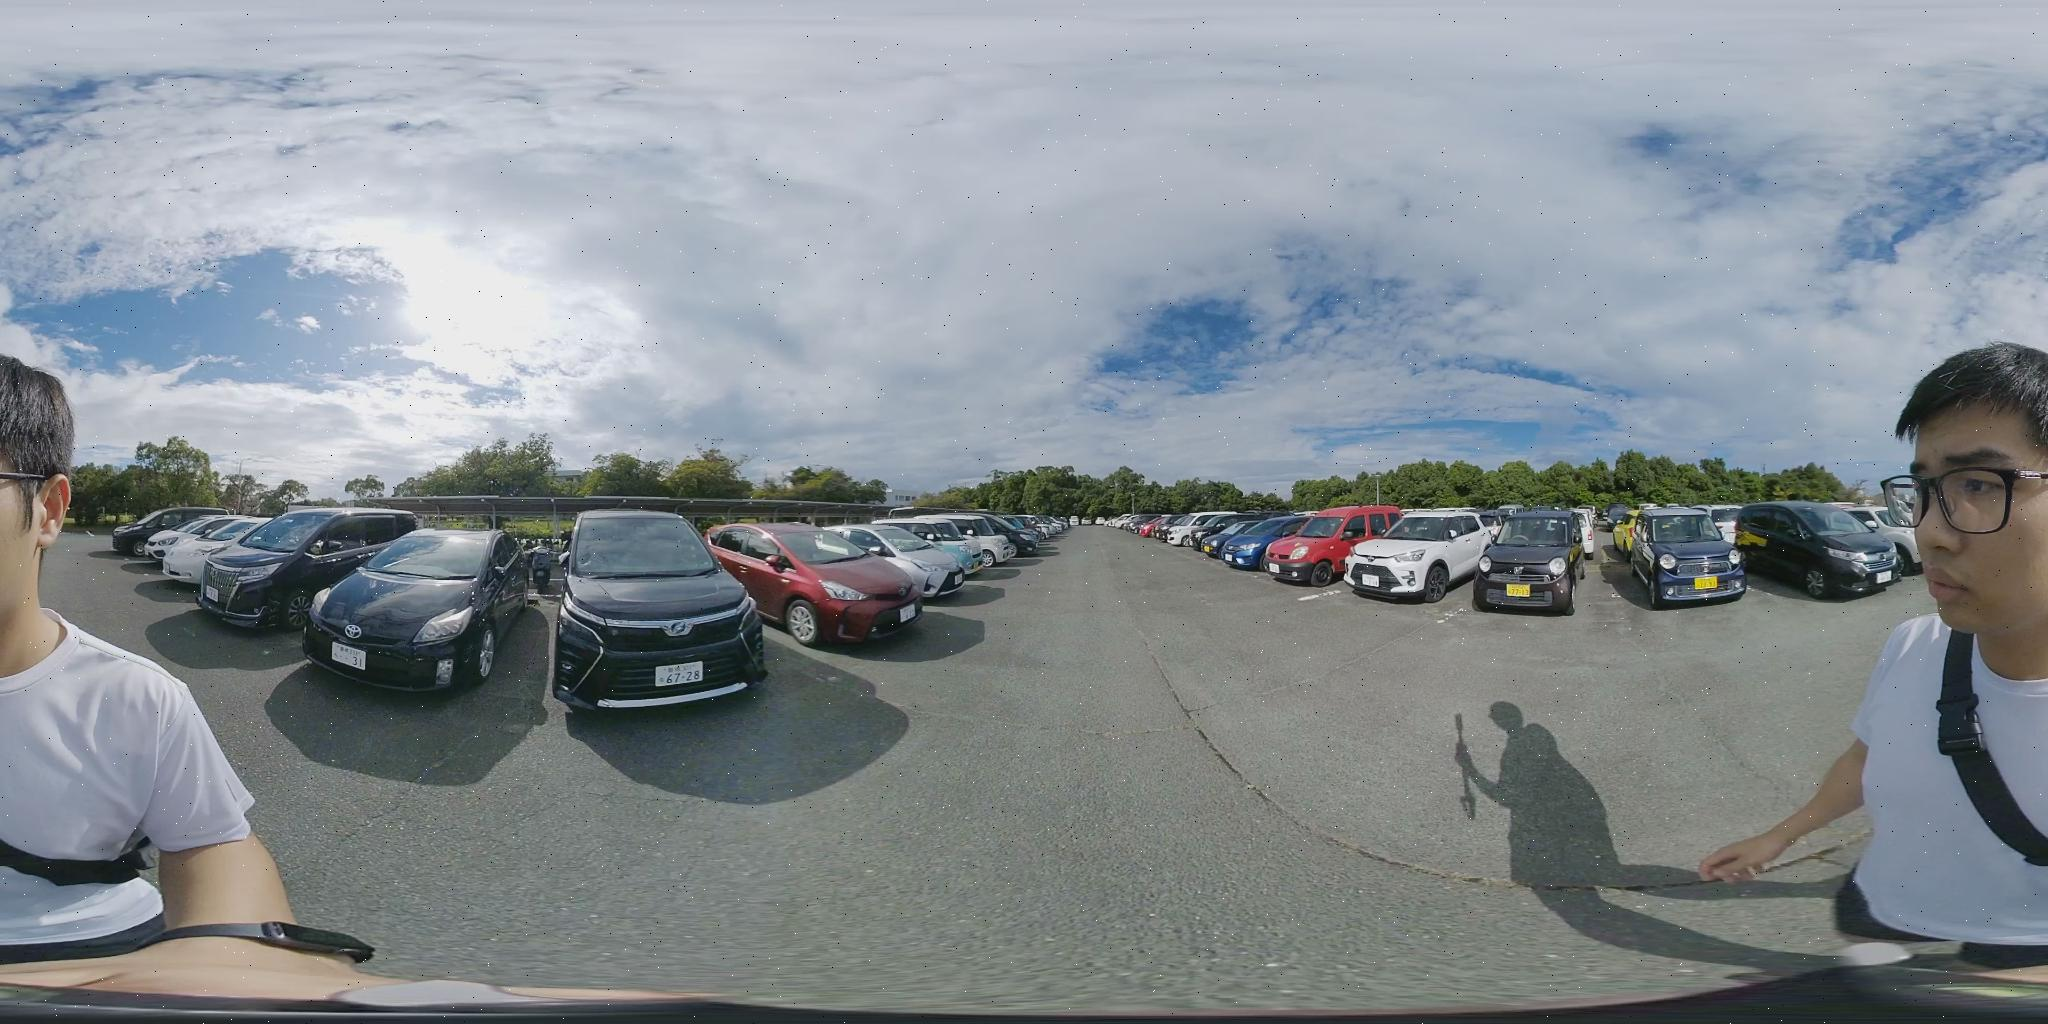car: (542, 509, 768, 711), (306, 525, 532, 699), (704, 525, 938, 649), (183, 512, 421, 630), (1732, 504, 1915, 600), (1351, 512, 1502, 598), (1479, 515, 1591, 615), (1262, 507, 1399, 580), (865, 522, 1000, 589), (148, 516, 281, 580), (879, 515, 1031, 569), (108, 509, 242, 560), (1211, 515, 1311, 568)
